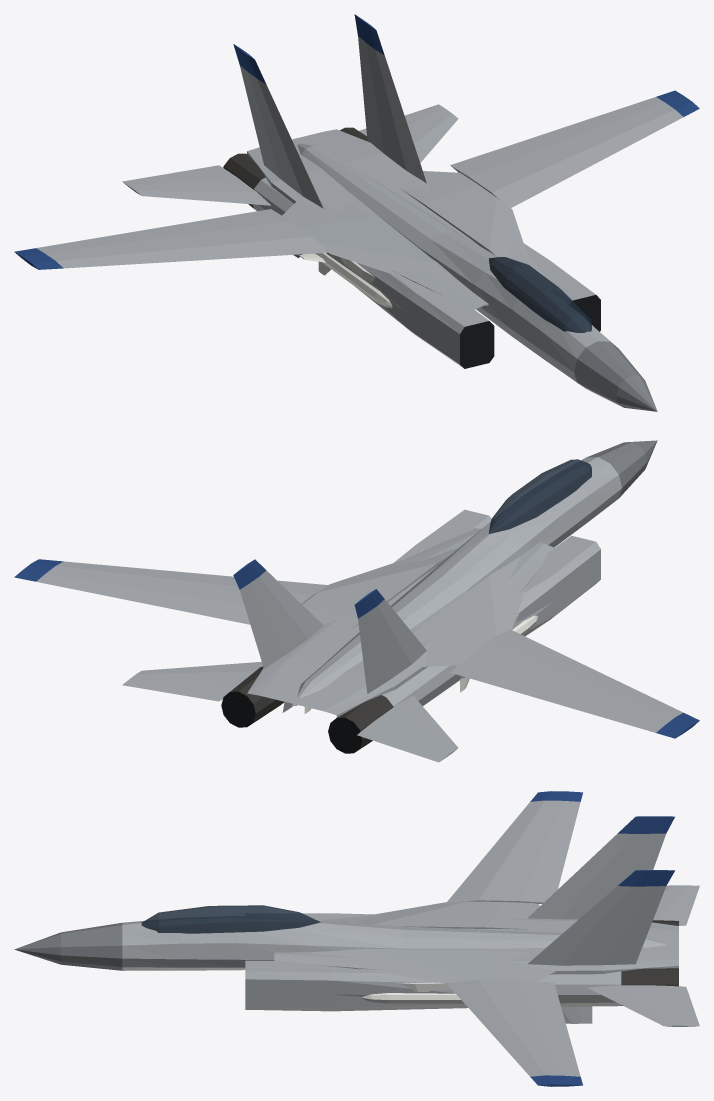
3 views of the same model, one above another, from view 1: azimuth 30°, elevation 25°; view 2: azimuth 150°, elevation 25°; view 3: azimuth 270°, elevation 25° (orthographic). The views are drawn at different scales.
Visible parts, largest first — view 1: airframe, wing_L, wing_R, canopy, stores; view 2: airframe, wing_R, wing_L, canopy; view 3: airframe, wing_R, wing_L, canopy, stores.
Boxes of the visible parts, left/top/right/bottom form: airframe: left=122, top=14, right=657, bottom=411; wing_L: left=450, top=90, right=699, bottom=207; wing_R: left=14, top=209, right=327, bottom=269; canopy: left=488, top=257, right=591, bottom=332; stores: left=299, top=253, right=475, bottom=310; airframe: left=122, top=440, right=657, bottom=762; wing_R: left=450, top=630, right=699, bottom=738; wing_L: left=14, top=559, right=327, bottom=624; canopy: left=489, top=459, right=591, bottom=533; airframe: left=14, top=816, right=699, bottom=1026; wing_R: left=447, top=791, right=582, bottom=904; wing_L: left=447, top=979, right=582, bottom=1086; canopy: left=141, top=905, right=320, bottom=933; stores: left=362, top=982, right=464, bottom=1003.
Size of the model in its own units: 19.2 by 4.74 by 18.98.
